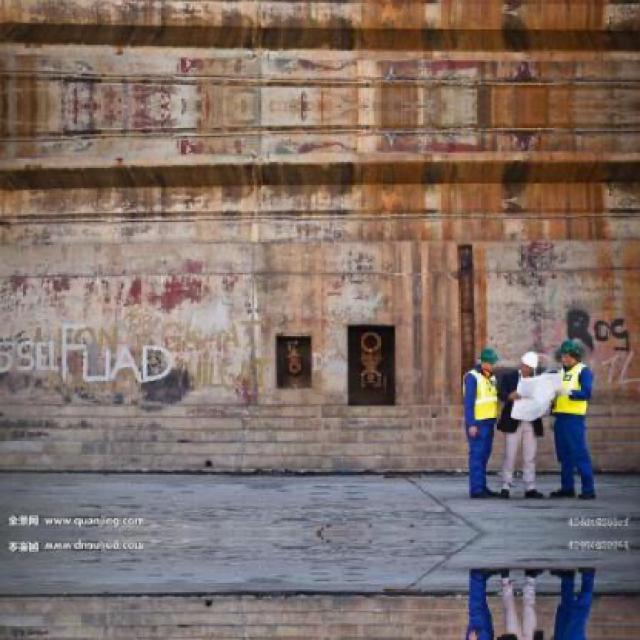helmet: (557, 339, 583, 369), (477, 347, 498, 372), (520, 350, 538, 375)
